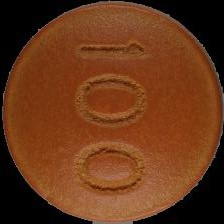0615-1548: (0, 0, 224, 224)
